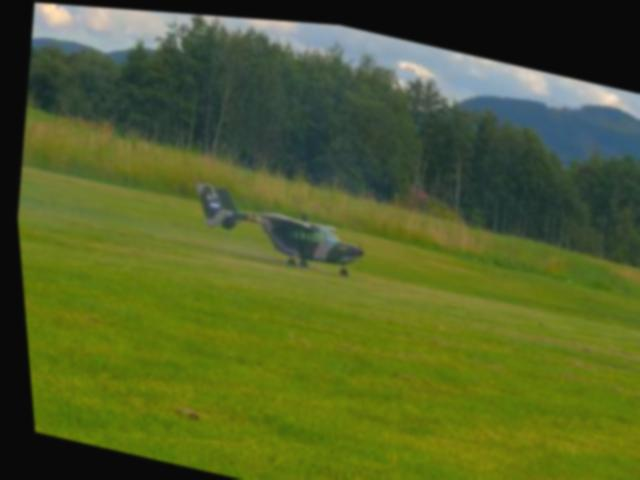uav: (181, 173, 370, 280)
